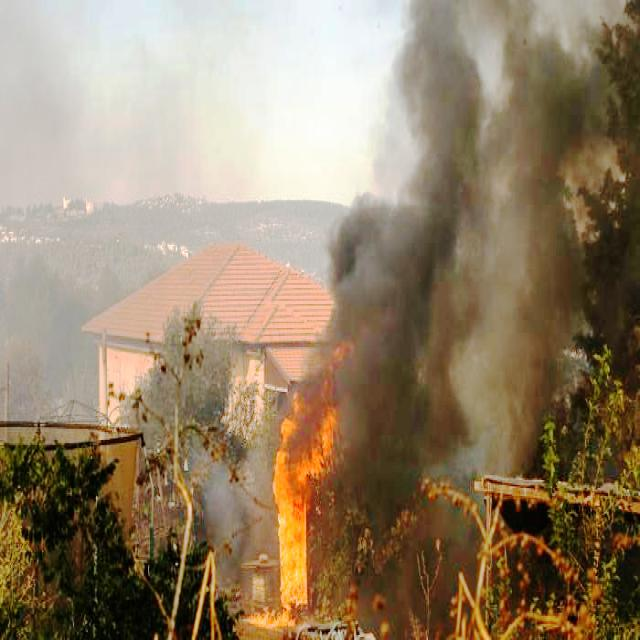api: (269, 400, 341, 628)
asap: (404, 1, 600, 475), (333, 188, 407, 623), (4, 1, 100, 219)
